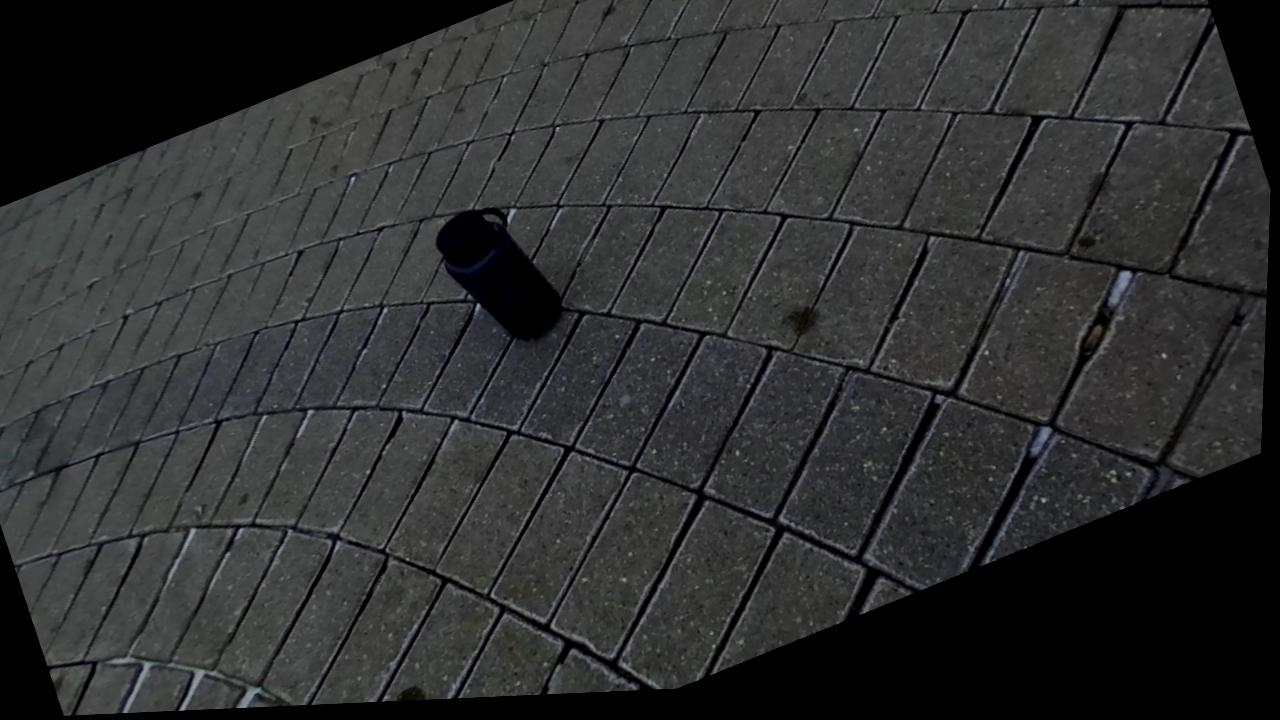bottle: (435, 207, 560, 339)
